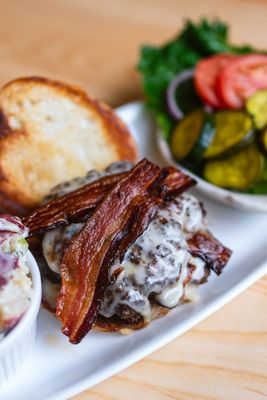soup: (24, 158, 232, 344), (1, 76, 140, 213)
sushi: (133, 16, 267, 215), (0, 214, 43, 389)
